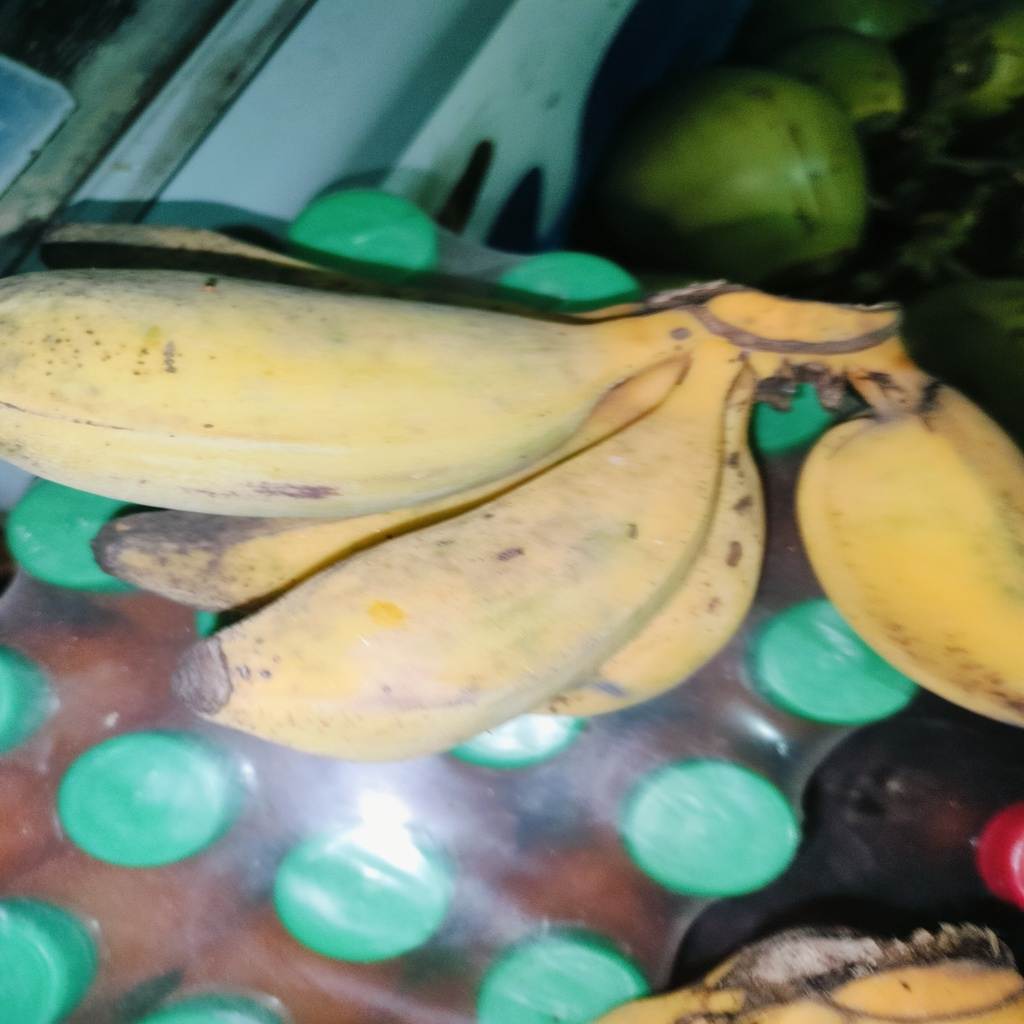unhealthy: (197, 383, 725, 765), (1, 272, 667, 511)
